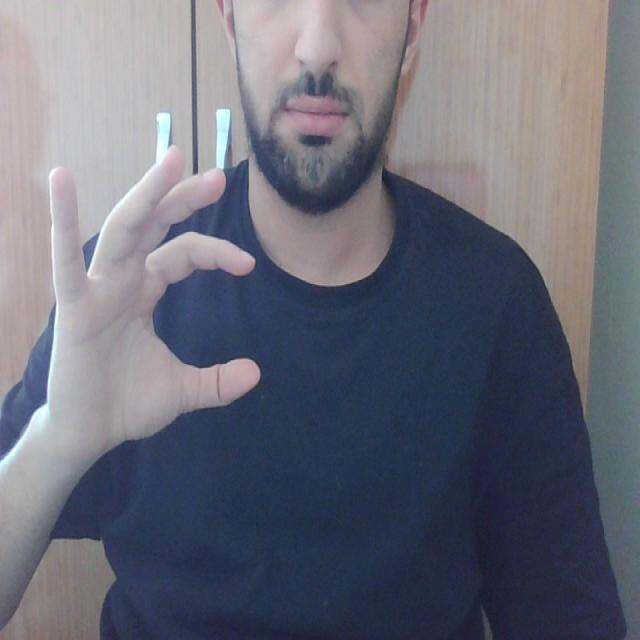Tuvalet: (40, 125, 282, 462)
